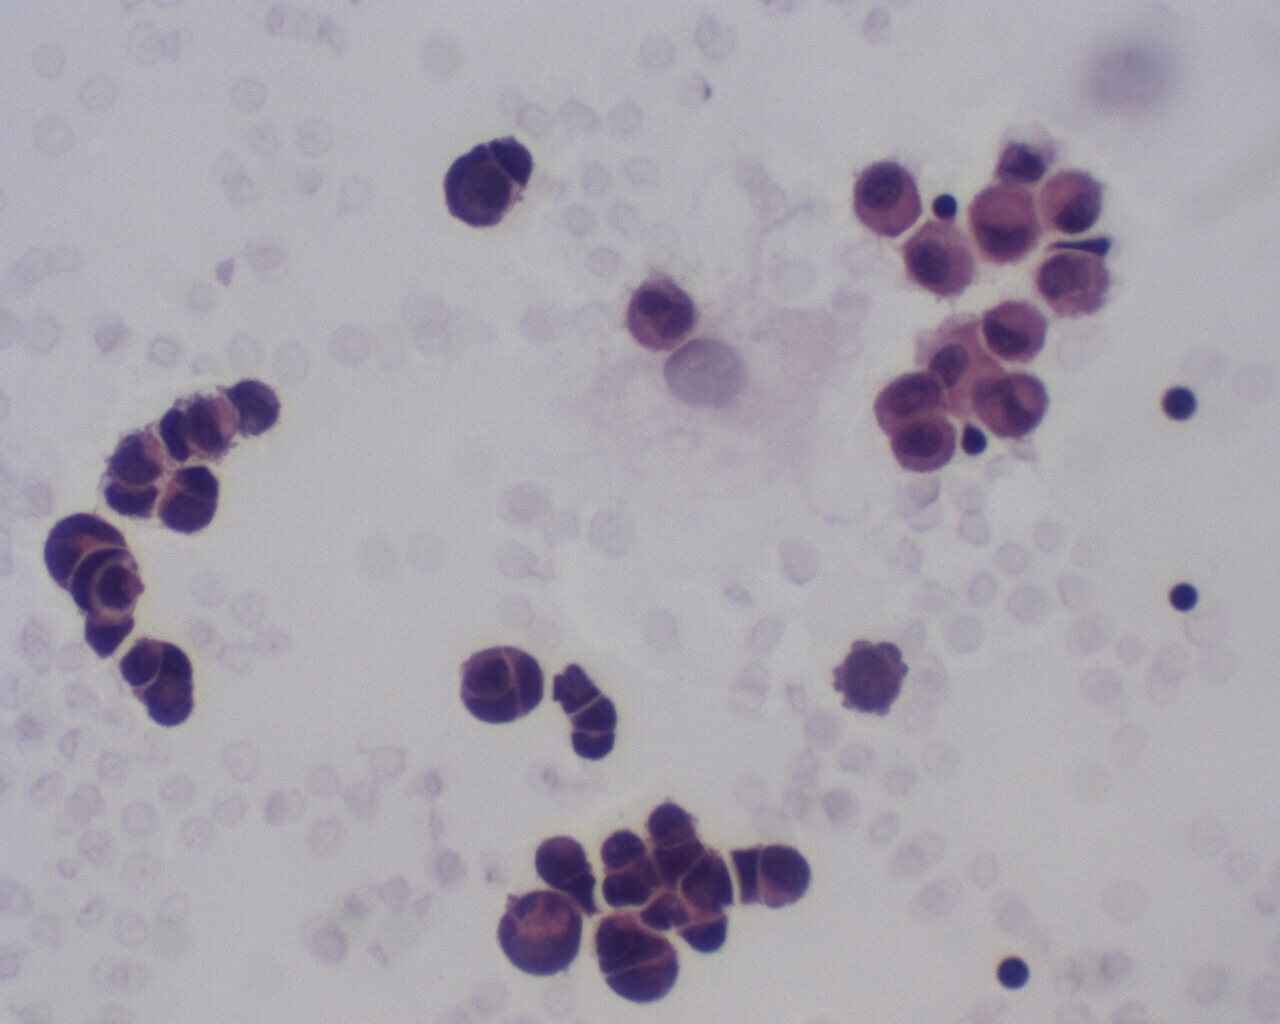ab: (34, 513, 134, 655), (433, 119, 546, 233), (484, 880, 585, 982), (116, 636, 201, 730), (590, 921, 682, 1005), (458, 644, 544, 727), (834, 633, 910, 718), (158, 464, 222, 533), (752, 840, 812, 912)
lymph: (1155, 381, 1196, 426), (990, 950, 1034, 990), (1167, 578, 1198, 616)
meso: (972, 181, 1045, 265), (904, 222, 976, 301), (850, 157, 921, 236), (882, 410, 957, 478), (1037, 169, 1109, 236), (977, 294, 1045, 364)
